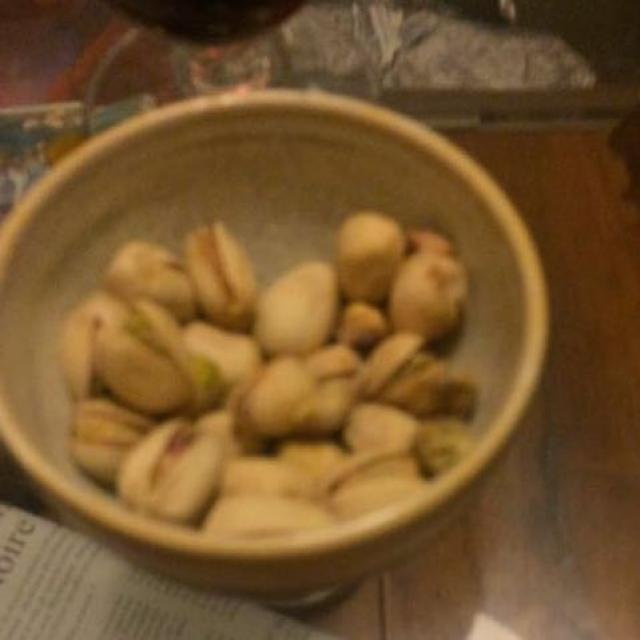pistachio: (63, 210, 472, 539)
